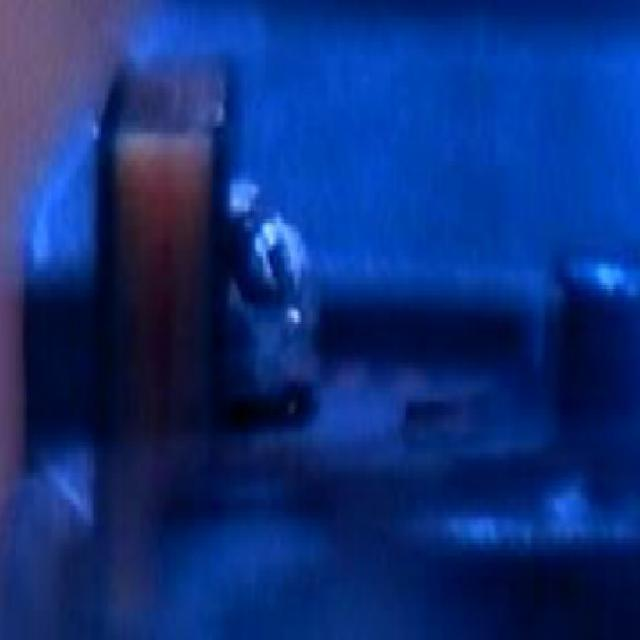Component: (76, 42, 245, 426)
Solder: (212, 149, 343, 439)
